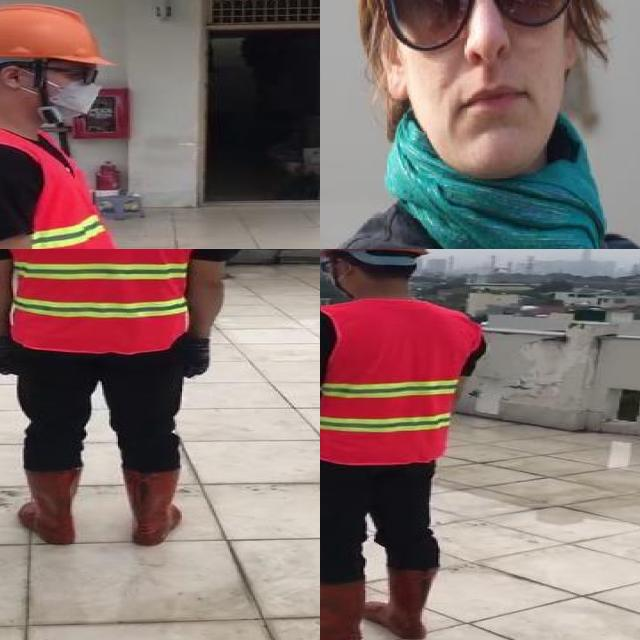boots: (367, 566, 436, 640), (15, 468, 81, 545), (122, 469, 184, 546), (320, 570, 367, 640)
face_mask: (15, 61, 110, 124)
face_nomask: (397, 0, 566, 137)
glasses: (377, 0, 588, 49)
hand_glove: (188, 338, 210, 378), (0, 337, 17, 374)
head_helmet: (0, 1, 113, 69)
person: (320, 0, 640, 249), (0, 249, 244, 555), (320, 249, 493, 640), (0, 0, 171, 249)
vest: (320, 297, 482, 465), (0, 249, 207, 354), (0, 121, 130, 249)
